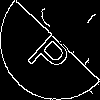P: (25, 25, 79, 82)
